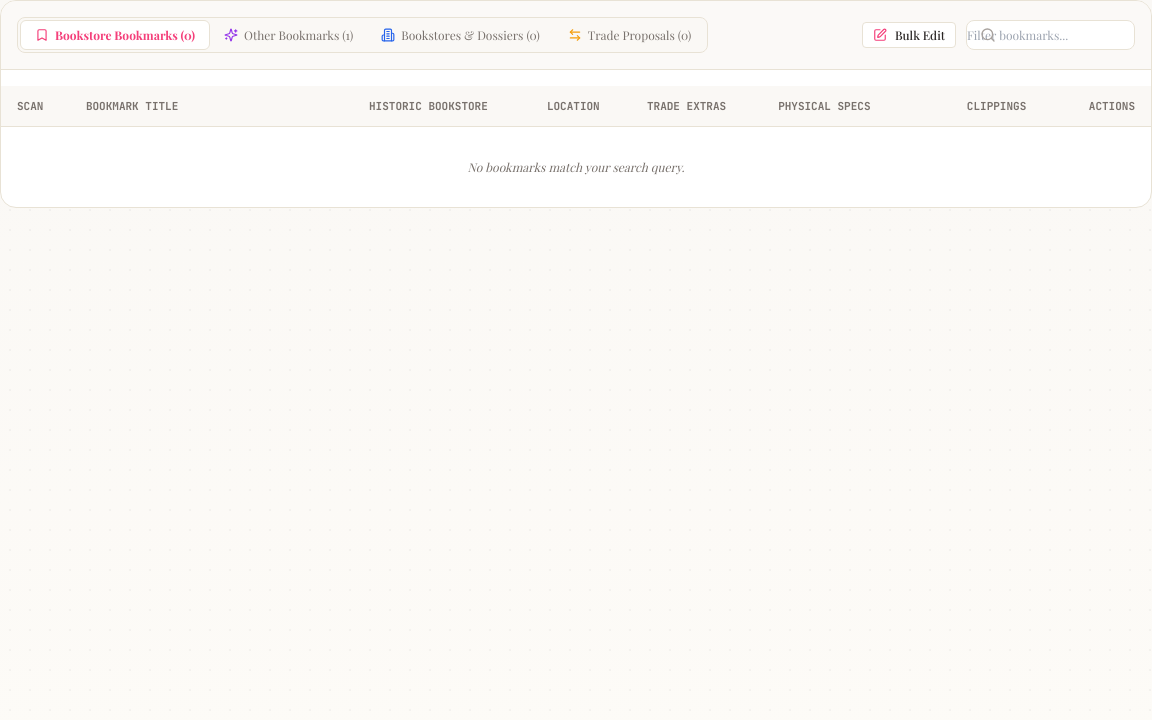
Test case: AdminTableClient - Other Bookmarks Bulk Edit & ImageDropzone › renders ImageDropzone components in the Add Single Other Bookmark modal
This screenshot has width=1152, height=720.
Note: Switch to Other Bookmarks tab
Click the button "Other Bookmarks (1)": point(289, 35) [210,20,367,50]
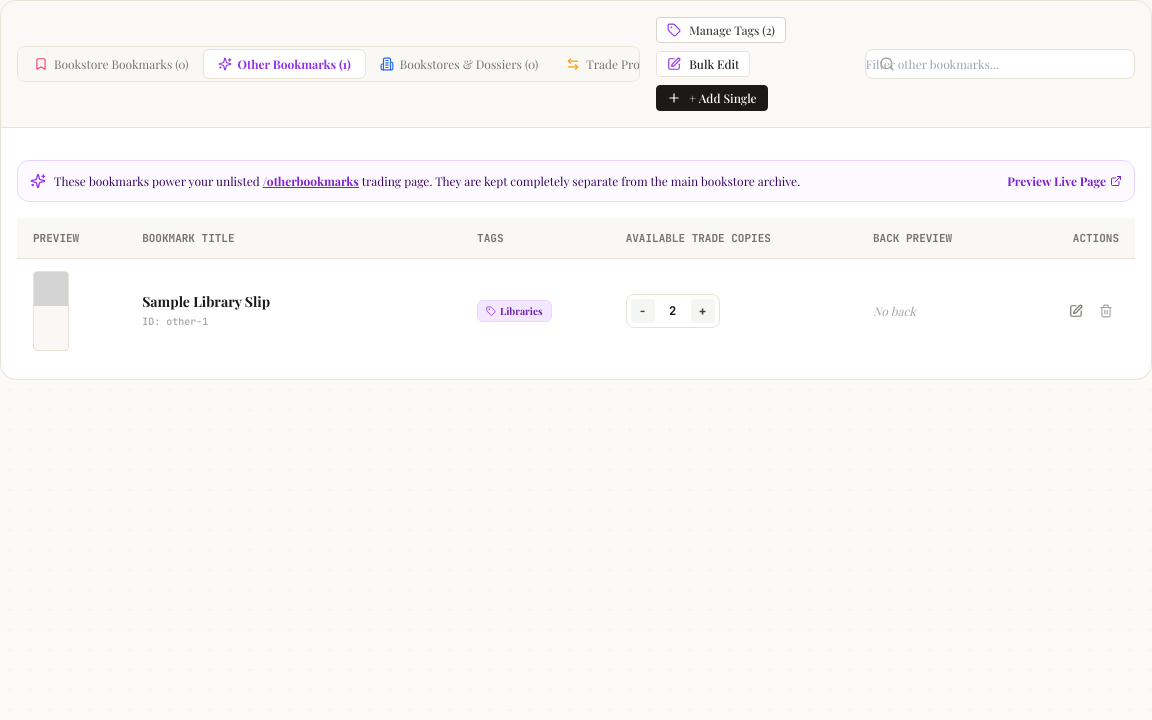
Note: Click + Add Single
Click the button "+ Add Single": point(712, 98) [656,85,768,111]
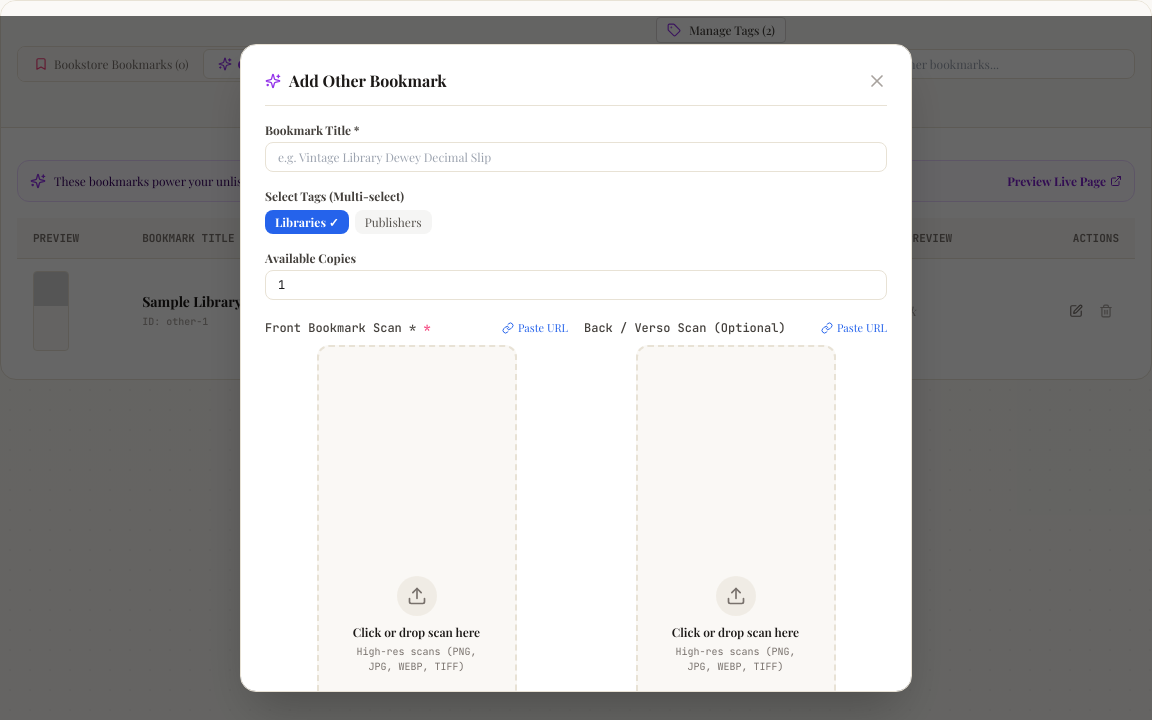
Expected: the text "Add Other Bookmark" is shown, [289,69,447,93]
Expected: the text "Front Bookmark Scan * *" is shown, [265,320,431,336]
Expected: the text "Back / Verso Scan (Optional)" is shown, [584,320,786,336]
